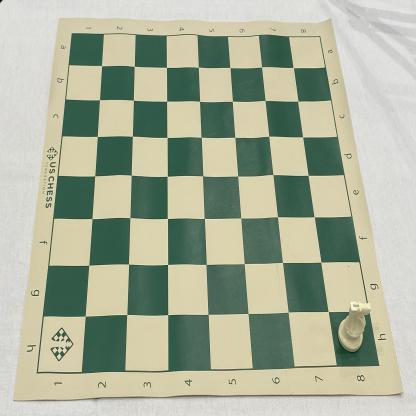white-knight: (338, 300, 372, 353)
